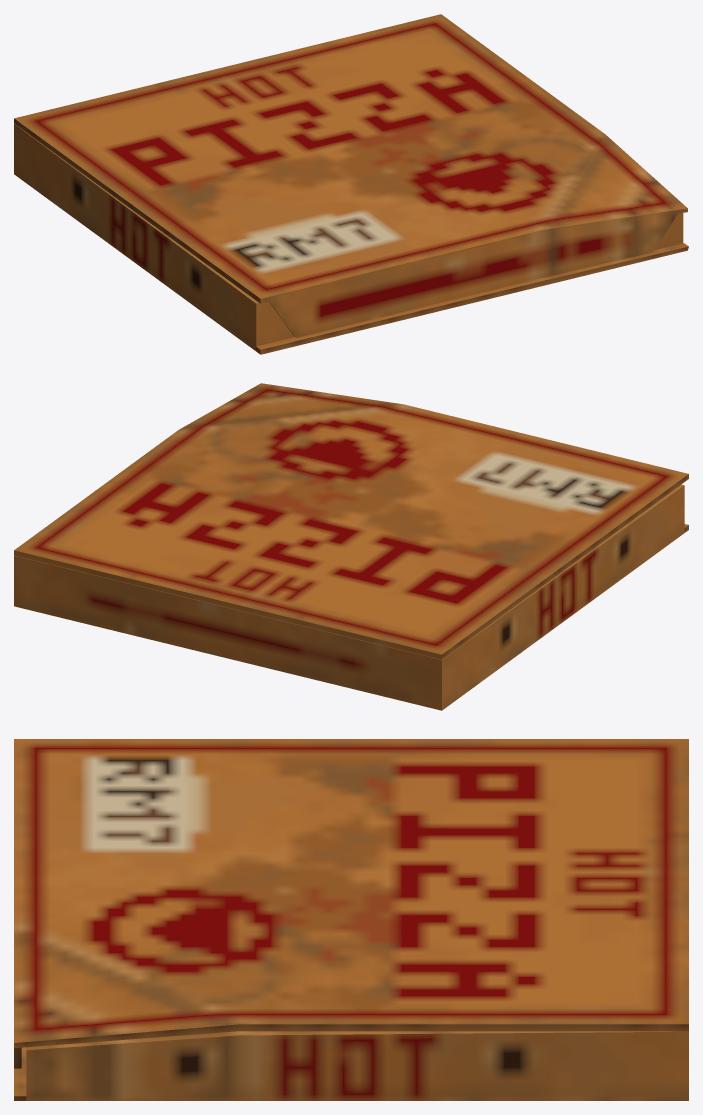
The model's file is SM_Motel_PizzaBox.fbx.
3 views of the same model, one above another, from view 1: azimuth 30°, elevation 25°; view 2: azimuth 150°, elevation 25°; view 3: azimuth 270°, elevation 25° (orthographic). The views are drawn at different scales.
Visible parts, largest first — view 1: SM_Motel_PizzaBox_Lid, SM_Motel_PizzaBox; view 2: SM_Motel_PizzaBox_Lid, SM_Motel_PizzaBox; view 3: SM_Motel_PizzaBox_Lid, SM_Motel_PizzaBox.
Part boxes in pixels (left/top/right/bottom): SM_Motel_PizzaBox_Lid: left=14, top=14, right=687, bottom=337; SM_Motel_PizzaBox: left=14, top=123, right=688, bottom=354; SM_Motel_PizzaBox_Lid: left=14, top=383, right=688, bottom=659; SM_Motel_PizzaBox: left=14, top=484, right=688, bottom=710; SM_Motel_PizzaBox_Lid: left=14, top=739, right=688, bottom=1068; SM_Motel_PizzaBox: left=14, top=1031, right=688, bottom=1100.
Size of the model in its own units: 0.3609 by 0.045 by 0.36.
Materials: 1 (1 with a texture image).
